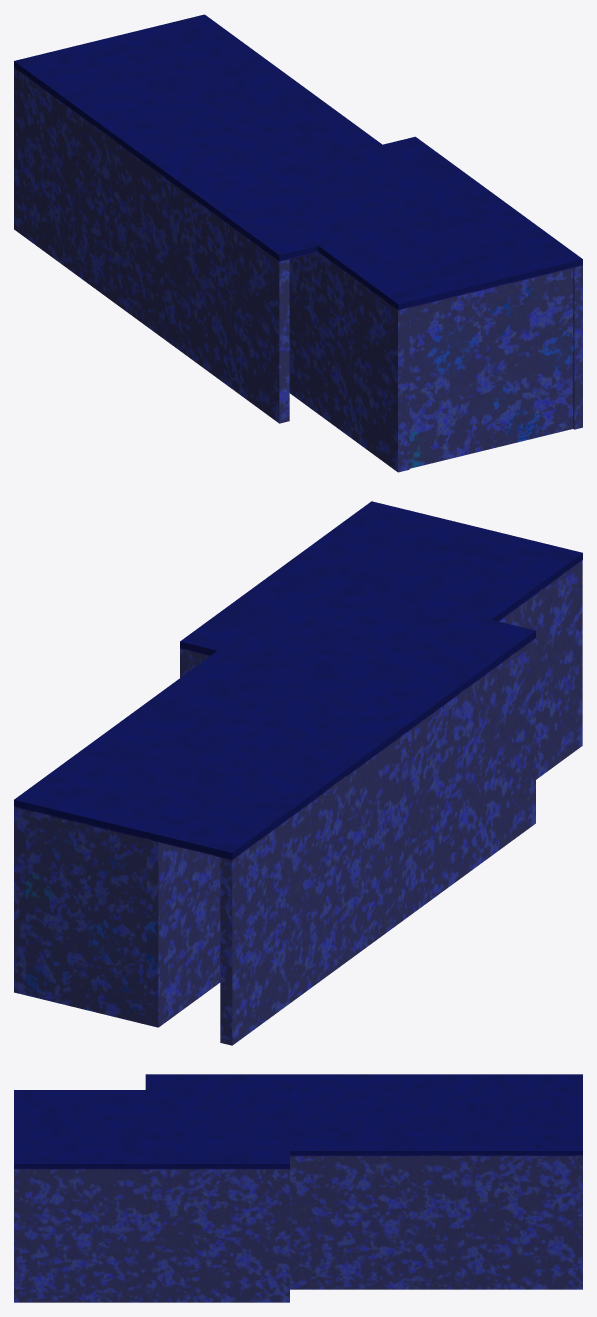
File: Wall.fbx
The picture shows the model from 3 angles, top to bottom: view 1: azimuth 30°, elevation 25°; view 2: azimuth 150°, elevation 25°; view 3: azimuth 270°, elevation 25°; orthographic projection. The views are drawn at different scales.
Parts seen in each view (by area): view 1: Ceiling, Cube.252, Cube.104, Cube.058, Wall3.002; view 2: Ceiling, Cube.252, Cube.225, Cube.224, Cube.058, Cube.218; view 3: Ceiling, Cube.218, Wall3.002.
Boxes of the visible parts, x1,y1,x2,y2 form: Ceiling: (14, 14, 582, 310); Cube.252: (14, 67, 289, 423); Cube.104: (409, 268, 573, 468); Cube.058: (289, 252, 409, 472); Wall3.002: (573, 265, 582, 429); Ceiling: (14, 501, 582, 860); Cube.252: (220, 638, 535, 1045); Cube.225: (26, 810, 146, 1024); Cube.224: (146, 839, 220, 1027); Cube.058: (499, 560, 582, 779); Cube.218: (14, 807, 25, 995); Ceiling: (14, 1074, 582, 1169); Cube.218: (290, 1156, 582, 1289); Wall3.002: (14, 1169, 289, 1302).
Bounding box in the file's own units: 6517 × 4689 × 17432.
Materials: 2 (2 with a texture image).
